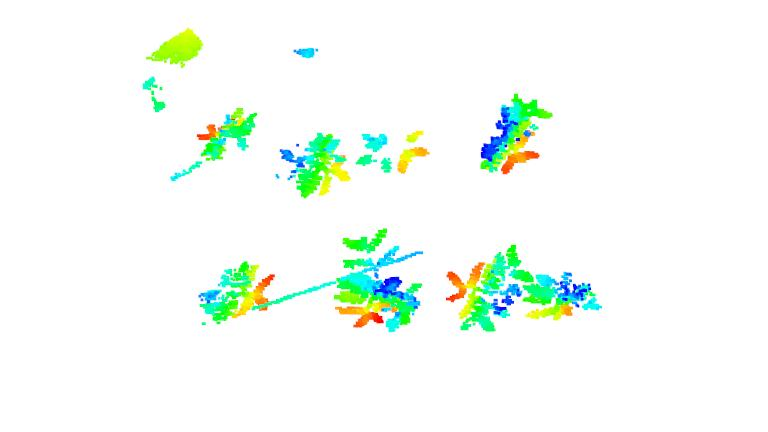chickpea: (334, 228, 425, 328), (444, 245, 538, 333), (471, 92, 555, 176), (191, 260, 281, 322), (273, 132, 353, 199), (520, 269, 604, 320), (355, 128, 435, 176), (195, 106, 260, 163)
